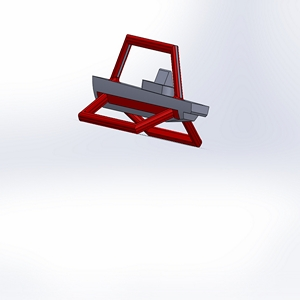submarine: (72, 27, 217, 165)
